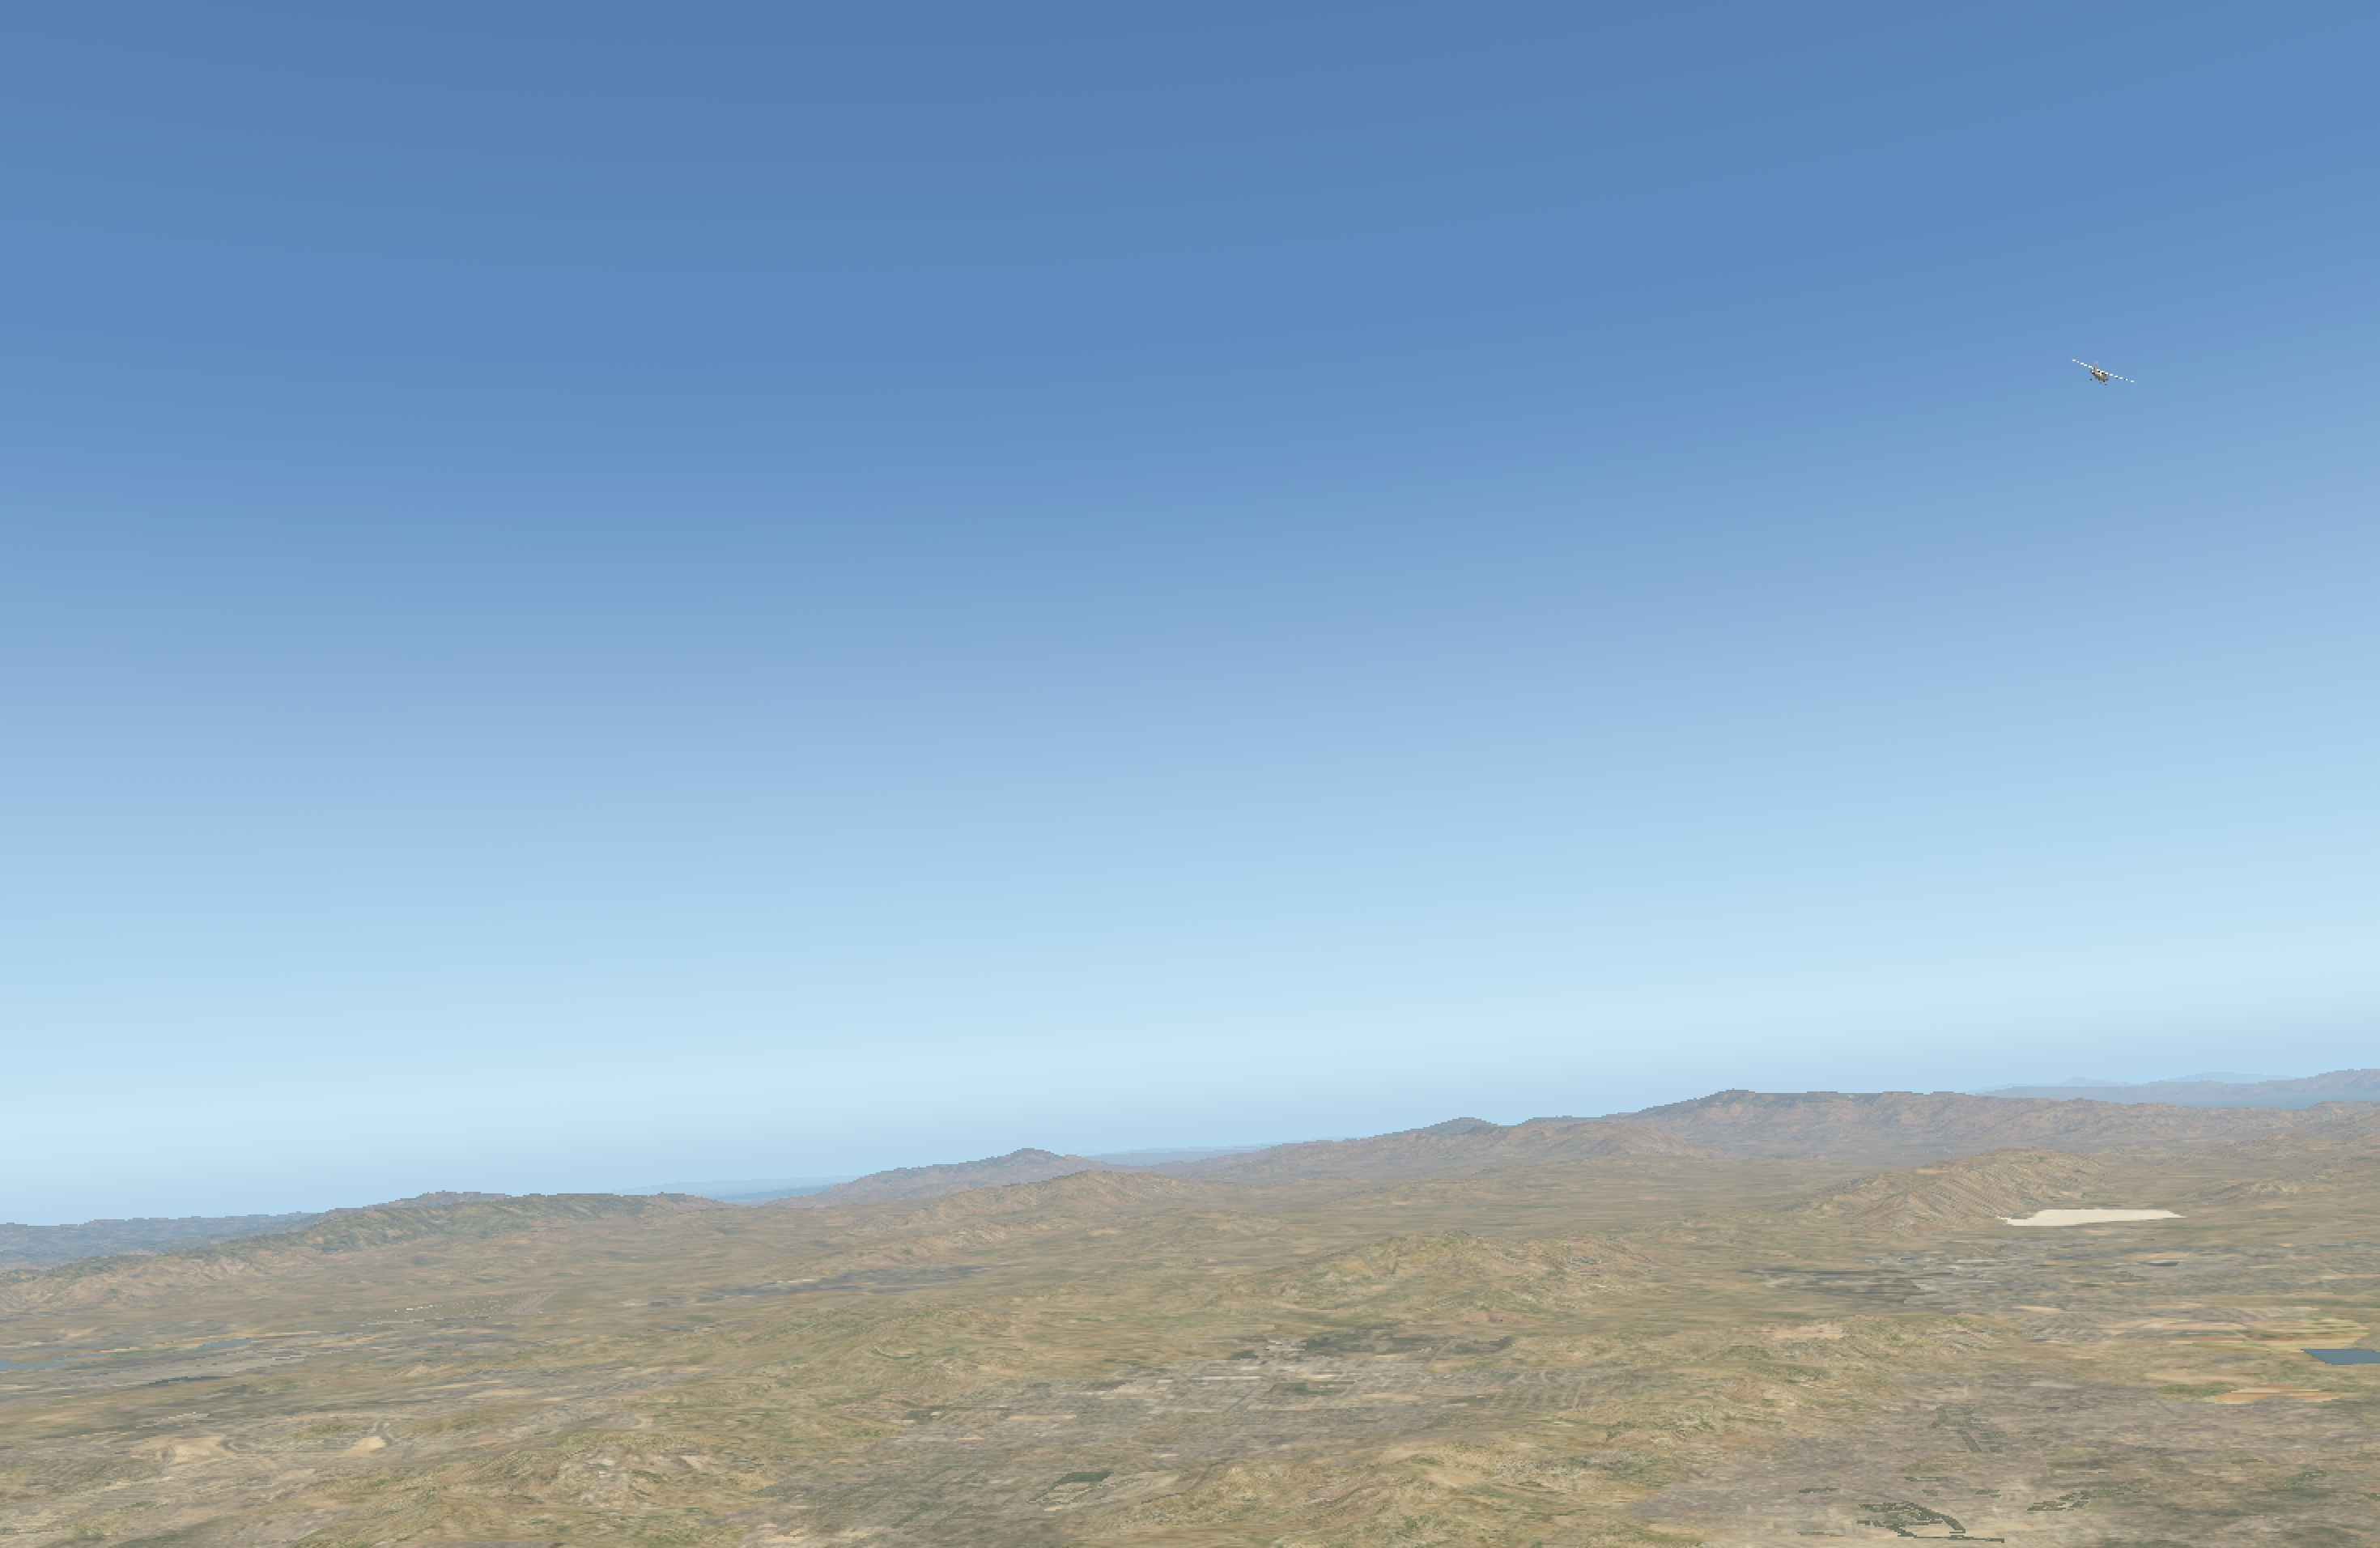aircraft: (2080, 366, 2123, 384)
